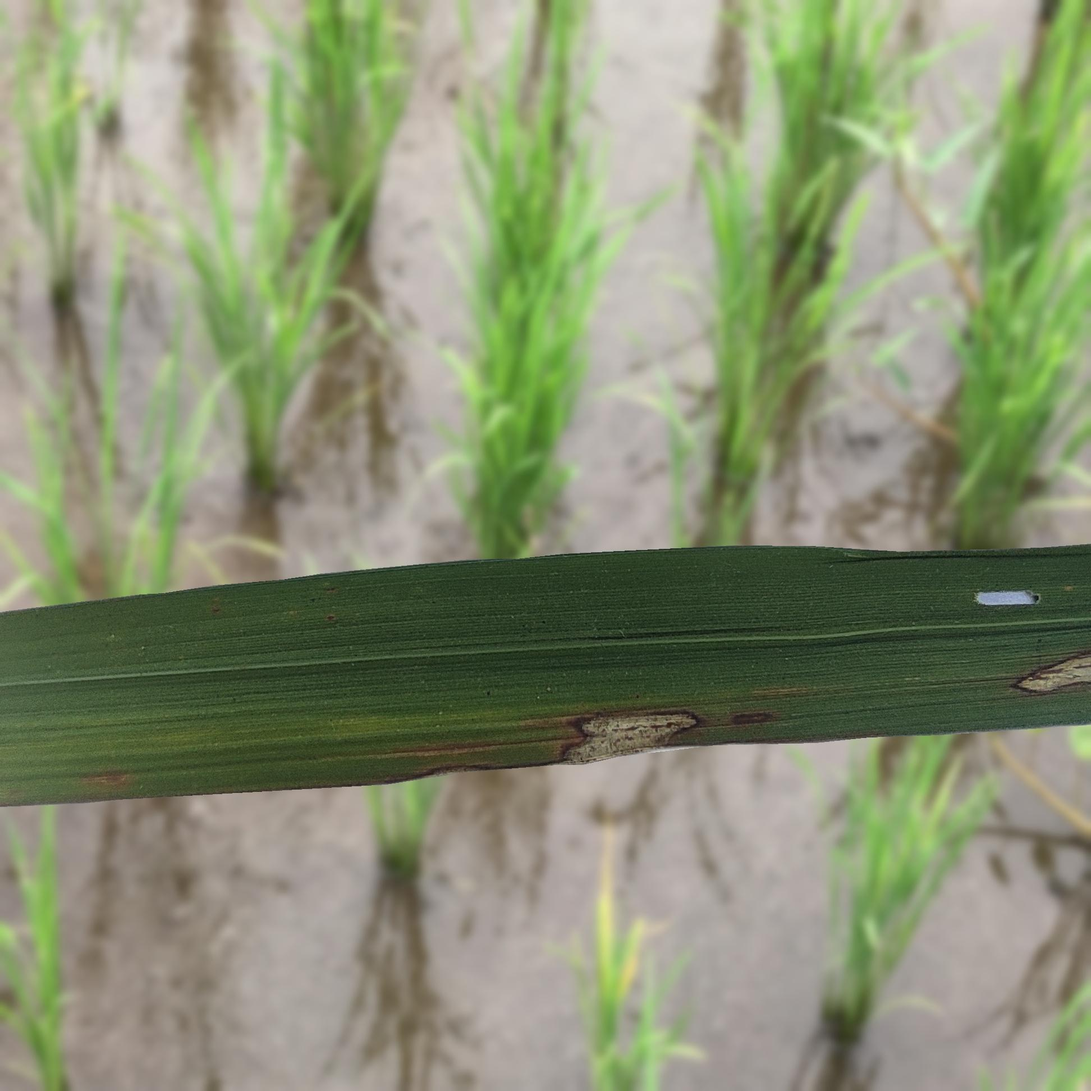LEAF BLAST: (565, 712, 696, 763), (1017, 653, 1090, 693)
